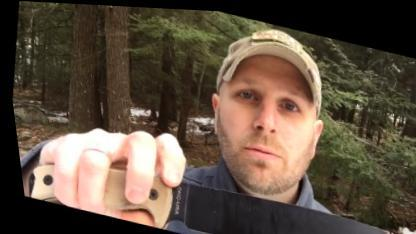knife: (59, 105, 402, 233)
